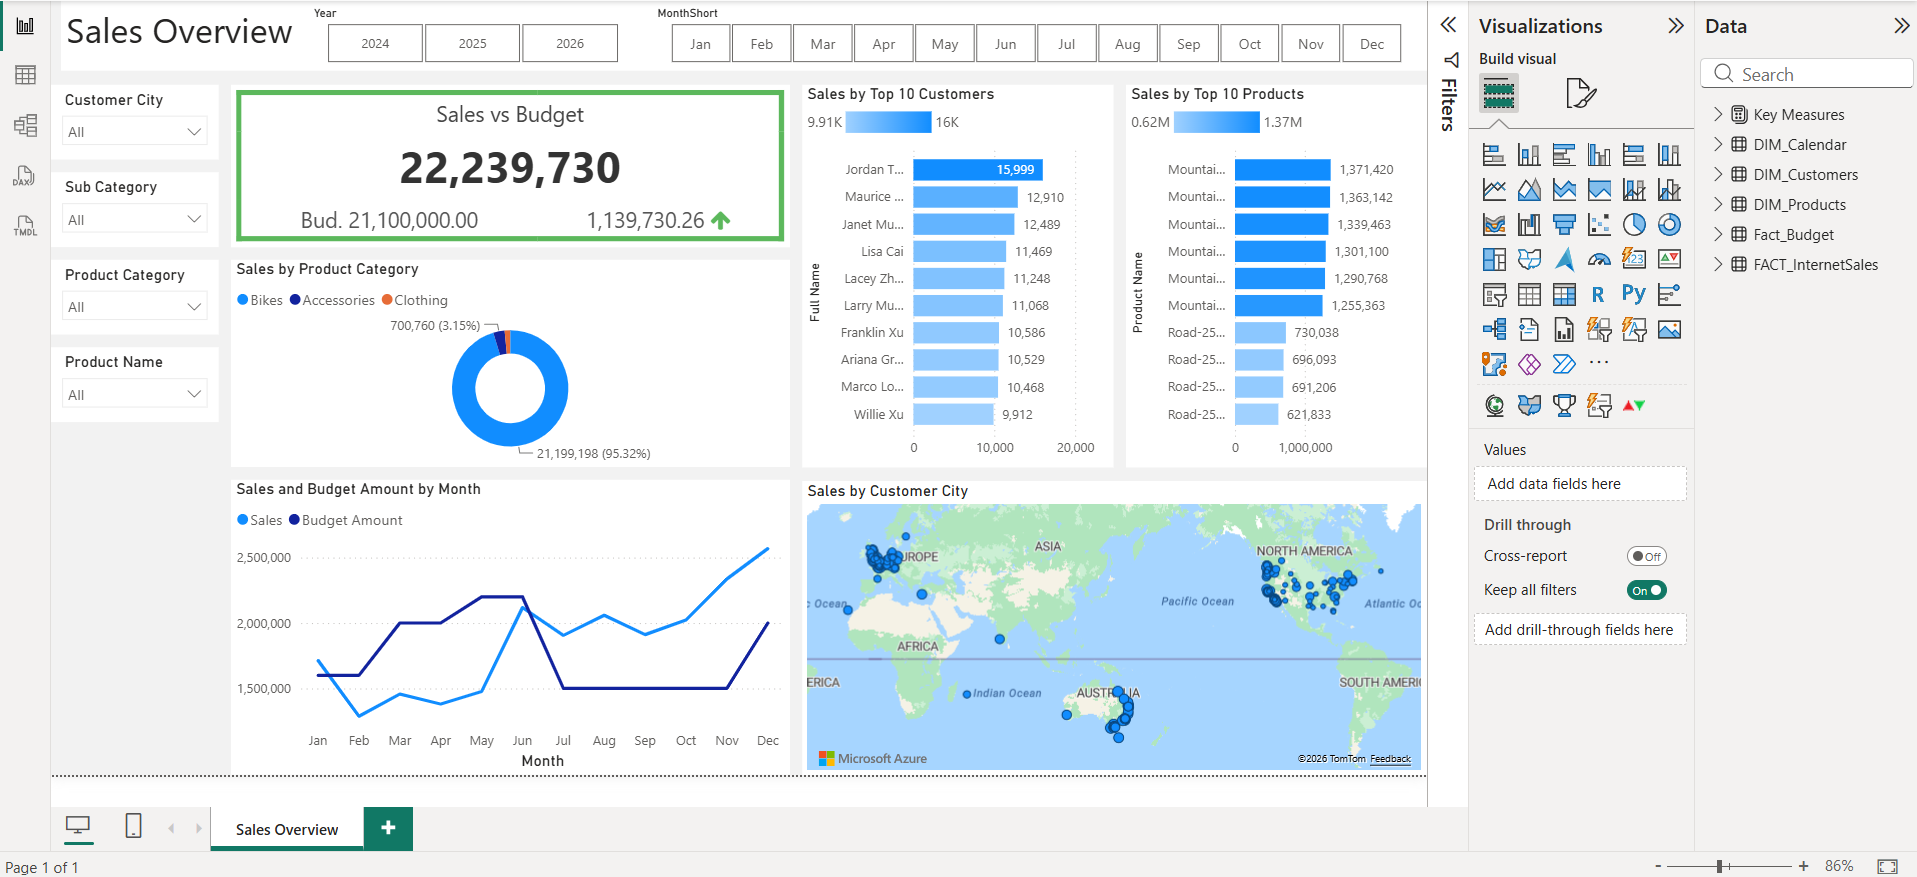

The dashboard page shown, as its layout file describes it:
{"tool":"powerbi","page":{"name":"Sales Overview","canvas":[1280,720],"ordinal":0},"visuals":[{"type":"textbox","box":[9.6,0,1270.7,64.5],"z":0},{"type":"slicer","fields":{"Values":["DIM_Customers.Customer City"]},"box":[0,77.9,155.8,69.8],"z":1000},{"type":"slicer","fields":{"Values":["DIM_Products.Sub Category"]},"box":[0,159.3,155.8,69.8],"z":2000},{"type":"slicer","fields":{"Values":["DIM_Products.Product Category"]},"box":[0,240.7,155.8,69.8],"z":3000},{"type":"slicer","fields":{"Values":["DIM_Products.Product Name"]},"box":[0,322.1,155.8,69.8],"z":4000},{"type":"slicer","fields":{"Values":["DIM_Calendar.Year"]},"box":[231.4,0,319.8,64],"z":5000},{"type":"slicer","fields":{"Values":["DIM_Calendar.MonthShort"]},"box":[551.2,0,729.1,64],"z":6000},{"type":"BBED0A4D4D8D44CE93CF2DAFADEE466C","fields":{"actual":["FACT_InternetSales.Sales"],"target1":["Key Measures.Budget Amount"],"target2":["Key Measures.Sales - Budget"]},"box":[167.4,77.9,519.8,151.2],"z":7000},{"type":"donutChart","fields":{"Y":["Key Measures.Sales"],"Category":["DIM_Products.Product Category"]},"box":[167.4,240.7,519.8,193],"z":8000},{"type":"lineChart","fields":{"Y":["Key Measures.Sales","Key Measures.Budget Amount"],"Category":["DIM_Calendar.MonthShort"]},"box":[167.4,445.4,519.8,274.4],"z":9000},{"type":"barChart","title":"Sales by Top 10 Customers","fields":{"Y":["Key Measures.Sales"],"Category":["DIM_Customers.Full Name"]},"box":[698.8,77.9,289.5,355.8],"z":10000},{"type":"barChart","title":"Sales by Top 10 Products","fields":{"Y":["Key Measures.Sales"],"Category":["DIM_Products.Product Name"]},"box":[1000,77.9,280.2,355.8],"z":11000},{"type":"azureMap","fields":{"Category":["DIM_Customers.Customer City"],"Size":["Key Measures.Sales"]},"box":[698.8,446.4,581,273.8],"z":12000}]}

Visuals, with their boxes on the page's 1280x720 design canvas (x1, y1, x2, y2). These are canvas units, not pixel positions in the 1917x877 screenshot, which may show the page scaled, cropped or inside an application window:
textbox: crop(10, 0, 1280, 64)
slicer - DIM_Customers.Customer City: crop(0, 78, 156, 148)
slicer - DIM_Products.Sub Category: crop(0, 159, 156, 229)
slicer - DIM_Products.Product Category: crop(0, 241, 156, 310)
slicer - DIM_Products.Product Name: crop(0, 322, 156, 392)
slicer - DIM_Calendar.Year: crop(231, 0, 551, 64)
slicer - DIM_Calendar.MonthShort: crop(551, 0, 1280, 64)
BBED0A4D4D8D44CE93CF2DAFADEE466C - FACT_InternetSales.Sales x Key Measures.Budget Amount: crop(167, 78, 687, 229)
donutChart - Key Measures.Sales x DIM_Products.Product Category: crop(167, 241, 687, 434)
lineChart - Key Measures.Sales x Key Measures.Budget Amount: crop(167, 445, 687, 720)
"Sales by Top 10 Customers" barChart: crop(699, 78, 988, 434)
"Sales by Top 10 Products" barChart: crop(1000, 78, 1280, 434)
azureMap - DIM_Customers.Customer City x Key Measures.Sales: crop(699, 446, 1280, 720)
